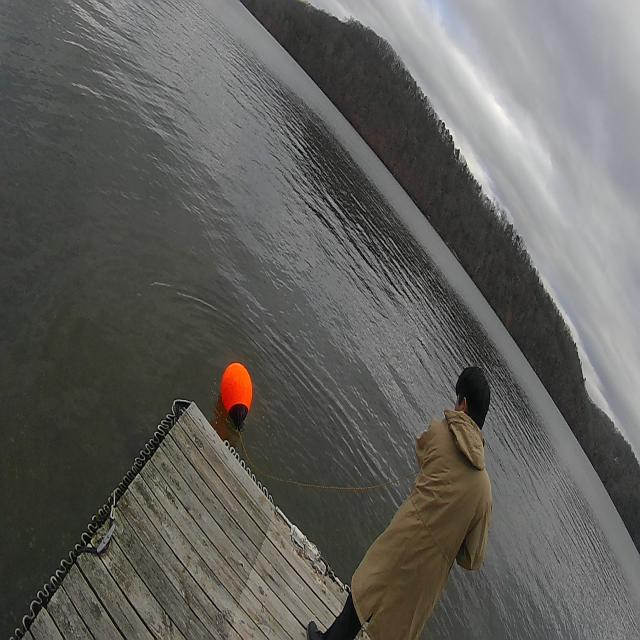Buoy: (215, 345, 264, 451)
